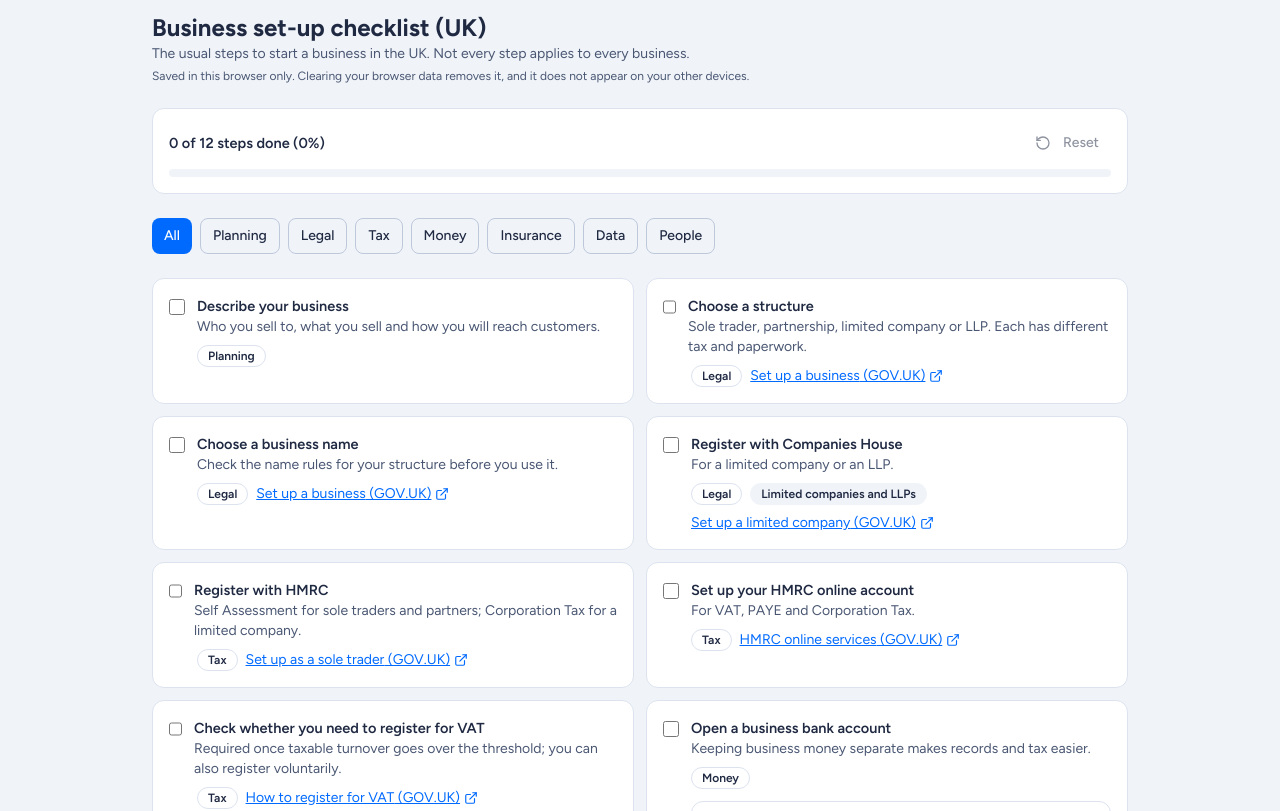
Test: Business Setup Checklist (Phase 38) › UK steps with GOV.UK links; ticks saved in the browser; reset
Later steps or results of the test are not shown.
Click the checkbox labelled "Open a business bank account". click: coordinates (671, 729)
box: top-left (663, 721), bottom-right (679, 737)
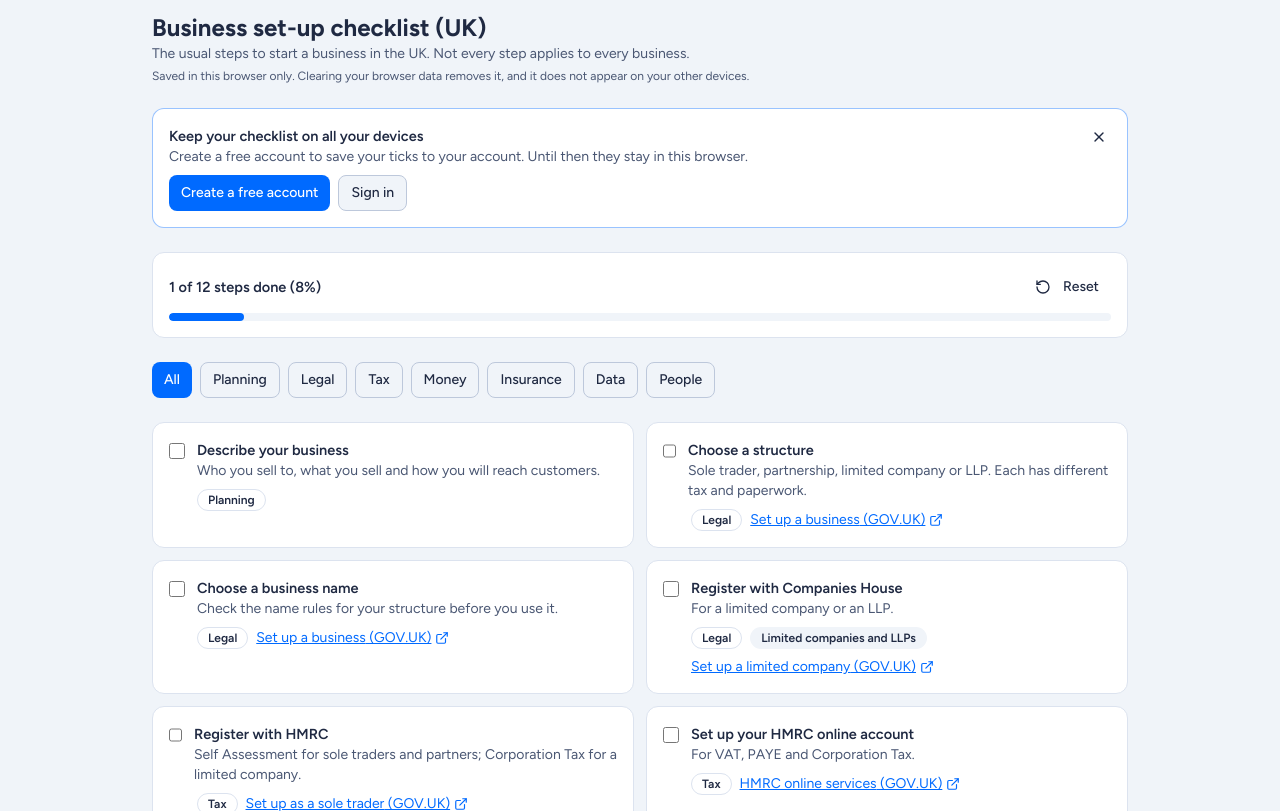
Check: the text with test id "checklist-progress" reads "1 of 12 steps done (8%)", box top-left (169, 276), bottom-right (321, 298)
